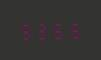nine: (18, 20, 33, 40)
six: (50, 19, 65, 39), (66, 19, 81, 39)
three: (34, 20, 49, 40)
